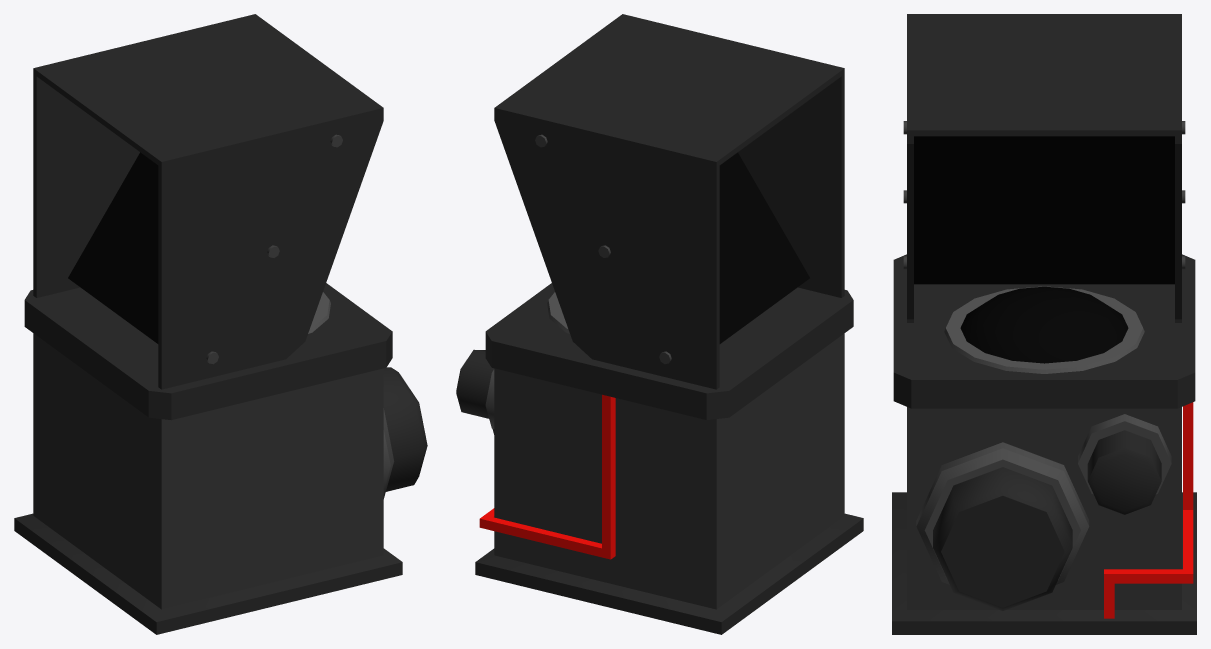
The model's file is PlaneSight.fbx.
3 renders of one model, left to right at view 1: azimuth 30°, elevation 25°; view 2: azimuth 150°, elevation 25°; view 3: azimuth 270°, elevation 25°, orthographic. The views are drawn at different scales.
Parts seen in each view (by area): view 1: Cube.001, Cube; view 2: Cube.001, Cube; view 3: Cube.001, Cube.
Boxes of the visible parts, x1,y1,x2,y2 form: Cube.001: (14, 14, 427, 634); Cube: (68, 152, 158, 343); Cube.001: (456, 14, 863, 634); Cube: (719, 152, 809, 343); Cube.001: (892, 14, 1196, 634); Cube: (914, 136, 1174, 284).
Size of the model in its own units: 0.5543 by 1 by 0.6617.
